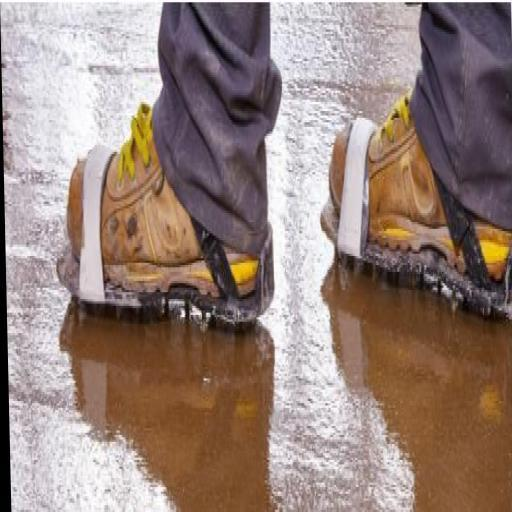safety_boots: (44, 136, 286, 347), (328, 112, 512, 327)
